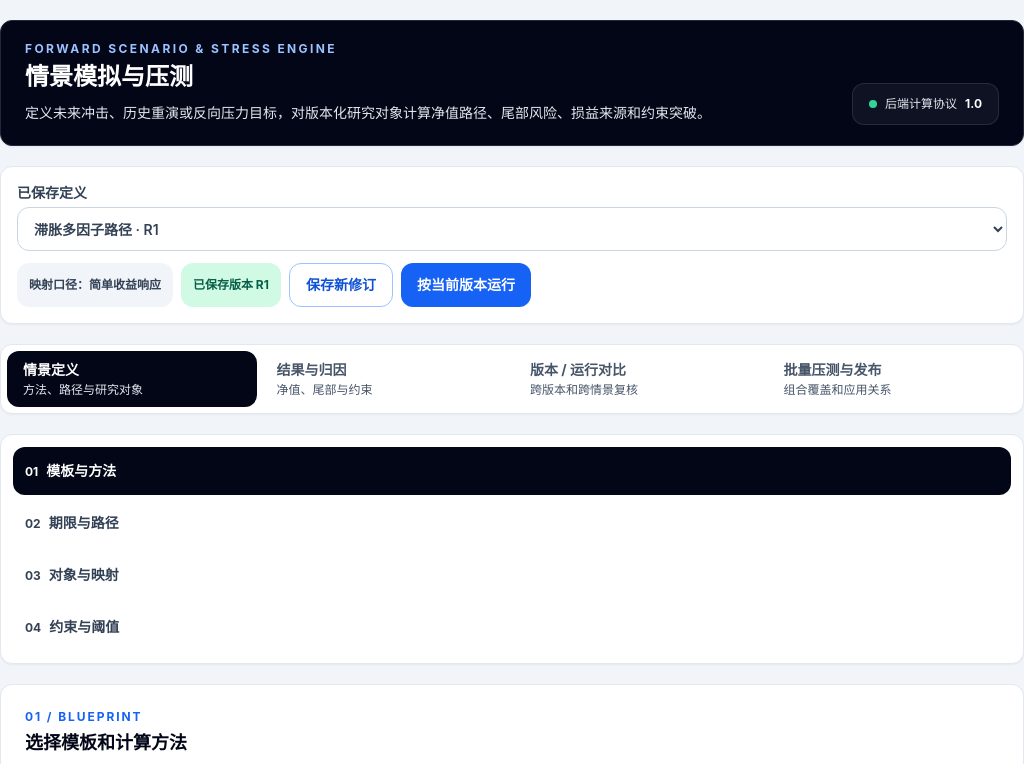
Test: ScenarioAlgorithmCenter › 后端错误只展示中文业务信息，不暴露内部错误码
expect the heading "情景模拟与压测" is shown: met, box [25,62,193,91]
Click the button "按当前版本运行". click: (466, 285)
box: [401,263,531,307]
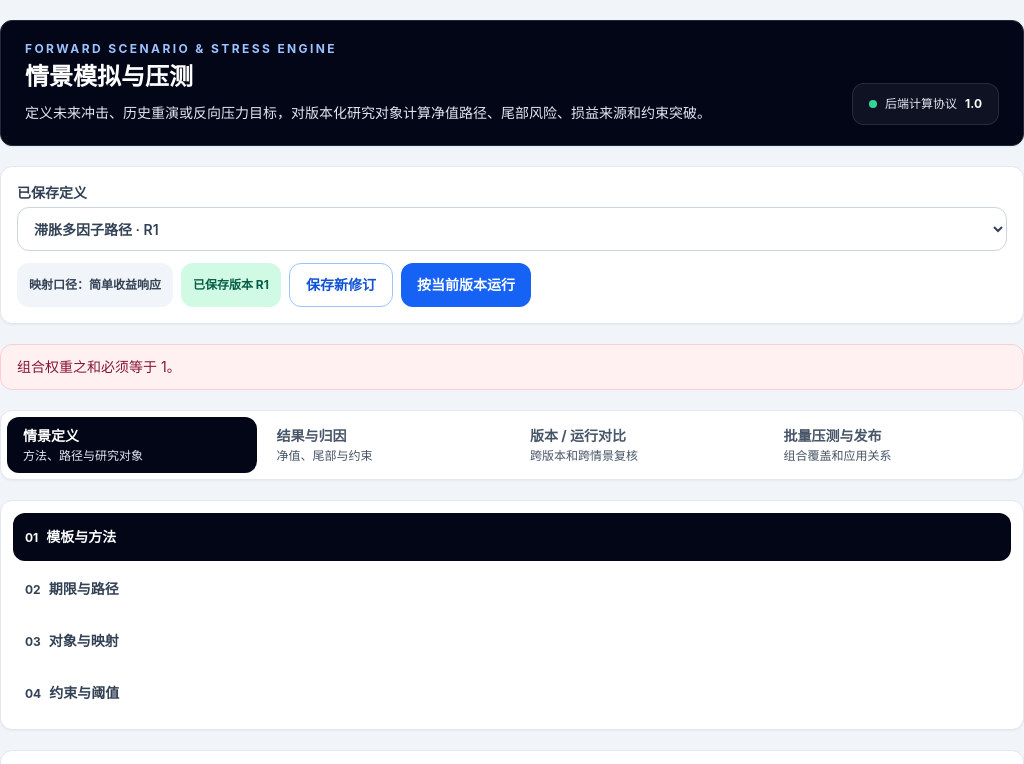
expect the message shows "组合权重之和必须等于 1": met, box [17,358,181,375]
